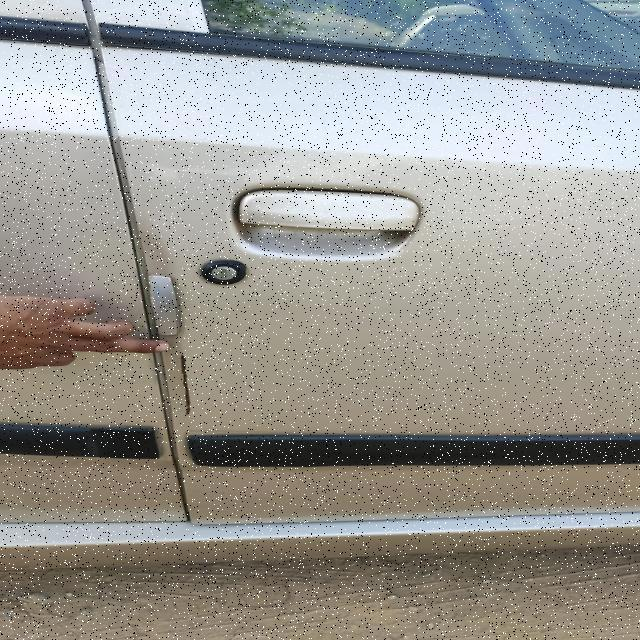doorouter-dent: (134, 55, 639, 520)
